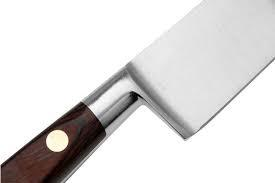Knife: (0, 0, 274, 182)
